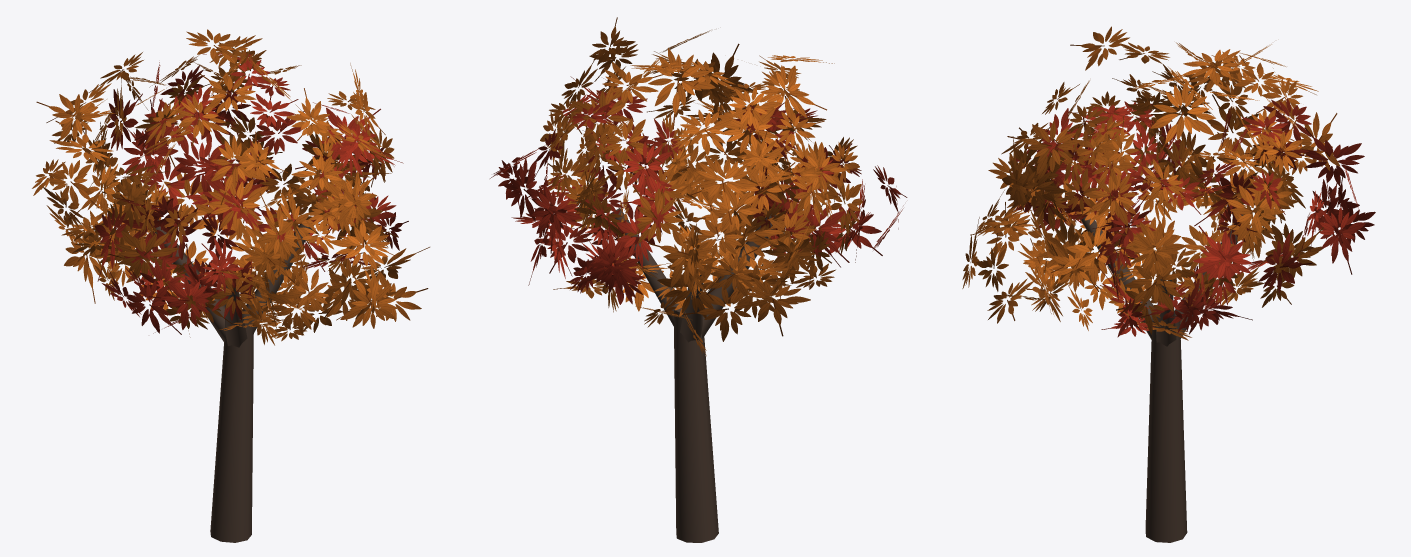
The model's file is maple.glb.
The picture shows the model from 3 angles, left to right: view 1: azimuth 30°, elevation 25°; view 2: azimuth 150°, elevation 25°; view 3: azimuth 270°, elevation 25°; orthographic projection. The views are drawn at different scales.
Visible parts, largest first — view 1: Maple; view 2: Maple; view 3: Maple.
Boxes of the visible parts, x1,y1,x2,y2 form: Maple: [32, 29, 429, 542]; Maple: [490, 17, 907, 542]; Maple: [962, 26, 1375, 542].
Bounding box in the file's own units: 5.98 × 7.56 × 6.27.
3 materials, 2 textured.
